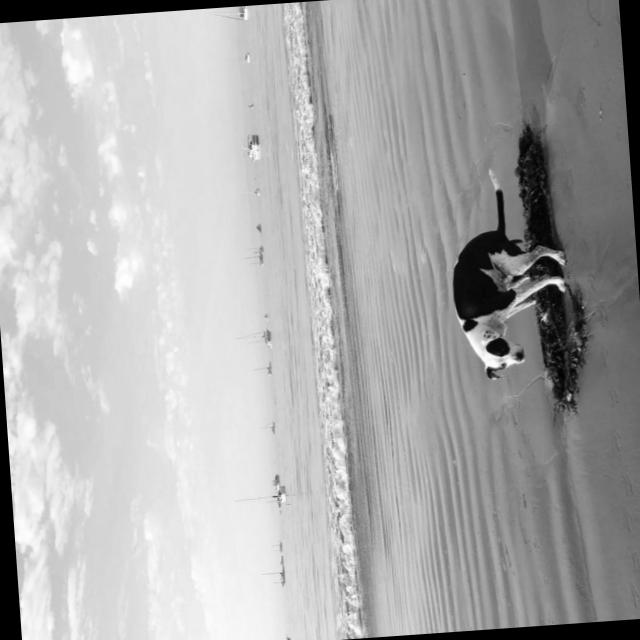squatting: (438, 158, 578, 386)
